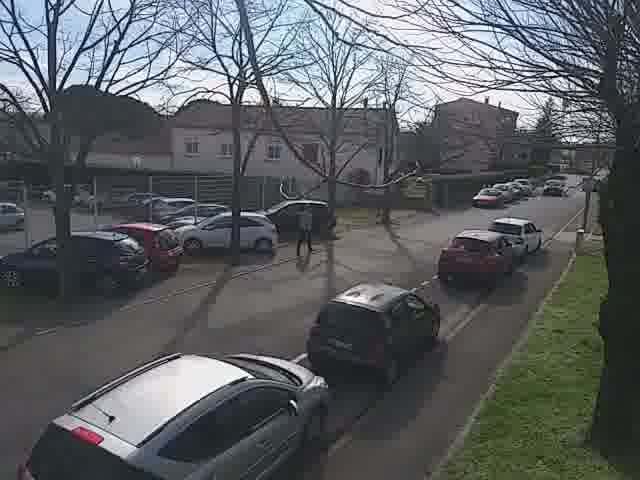persona: (293, 199, 319, 258)
